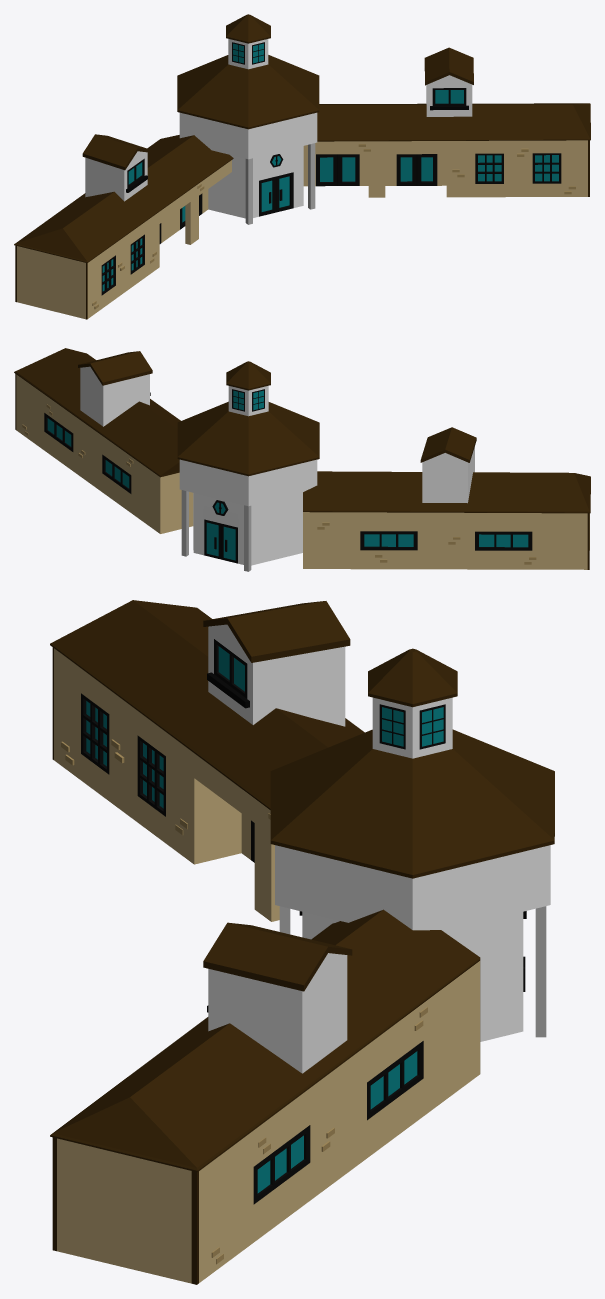
File: Carehome.fbx
3 views of the same model, one above another, from view 1: azimuth 30°, elevation 25°; view 2: azimuth 150°, elevation 25°; view 3: azimuth 270°, elevation 25° (orthographic). The views are drawn at different scales.
Visible parts, largest first — view 1: Carehome; view 2: Carehome; view 3: Carehome.
Part boxes in pixels (x1=…): Carehome: x1=14, y1=14, x2=590, y2=319; Carehome: x1=14, y1=348, x2=590, y2=571; Carehome: x1=50, y1=600, x2=554, y2=1284.
Size of what is drawn, in the model's own units: 43.37 by 12.73 by 16.44.
